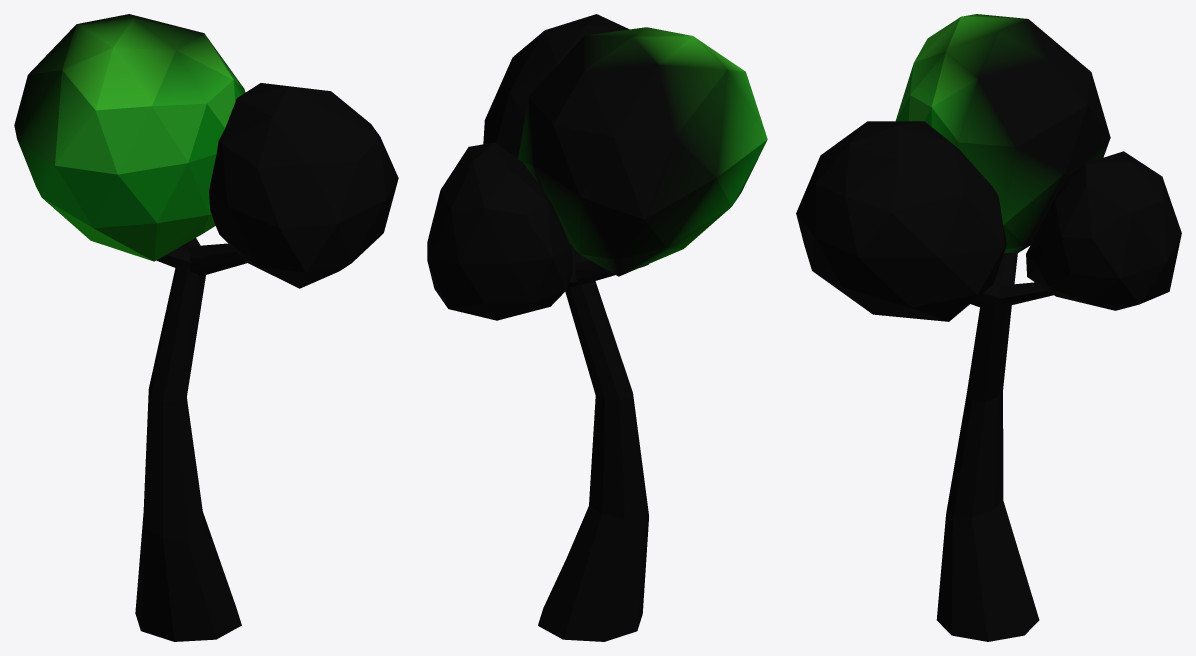
The model's file is normalağaç.fbx.
3 renders of one model, left to right at view 1: azimuth 30°, elevation 25°; view 2: azimuth 150°, elevation 25°; view 3: azimuth 270°, elevation 25°, orthographic. The views are drawn at different scales.
Parts seen in each view (by area): view 1: Icosphere.002; view 2: Icosphere.002; view 3: Icosphere.002.
Boxes of the visible parts, x1,y1,x2,y2 form: Icosphere.002: [14, 14, 398, 641]; Icosphere.002: [427, 14, 767, 641]; Icosphere.002: [796, 14, 1181, 641].
Size of the model in its own units: 403 by 789 by 487.
